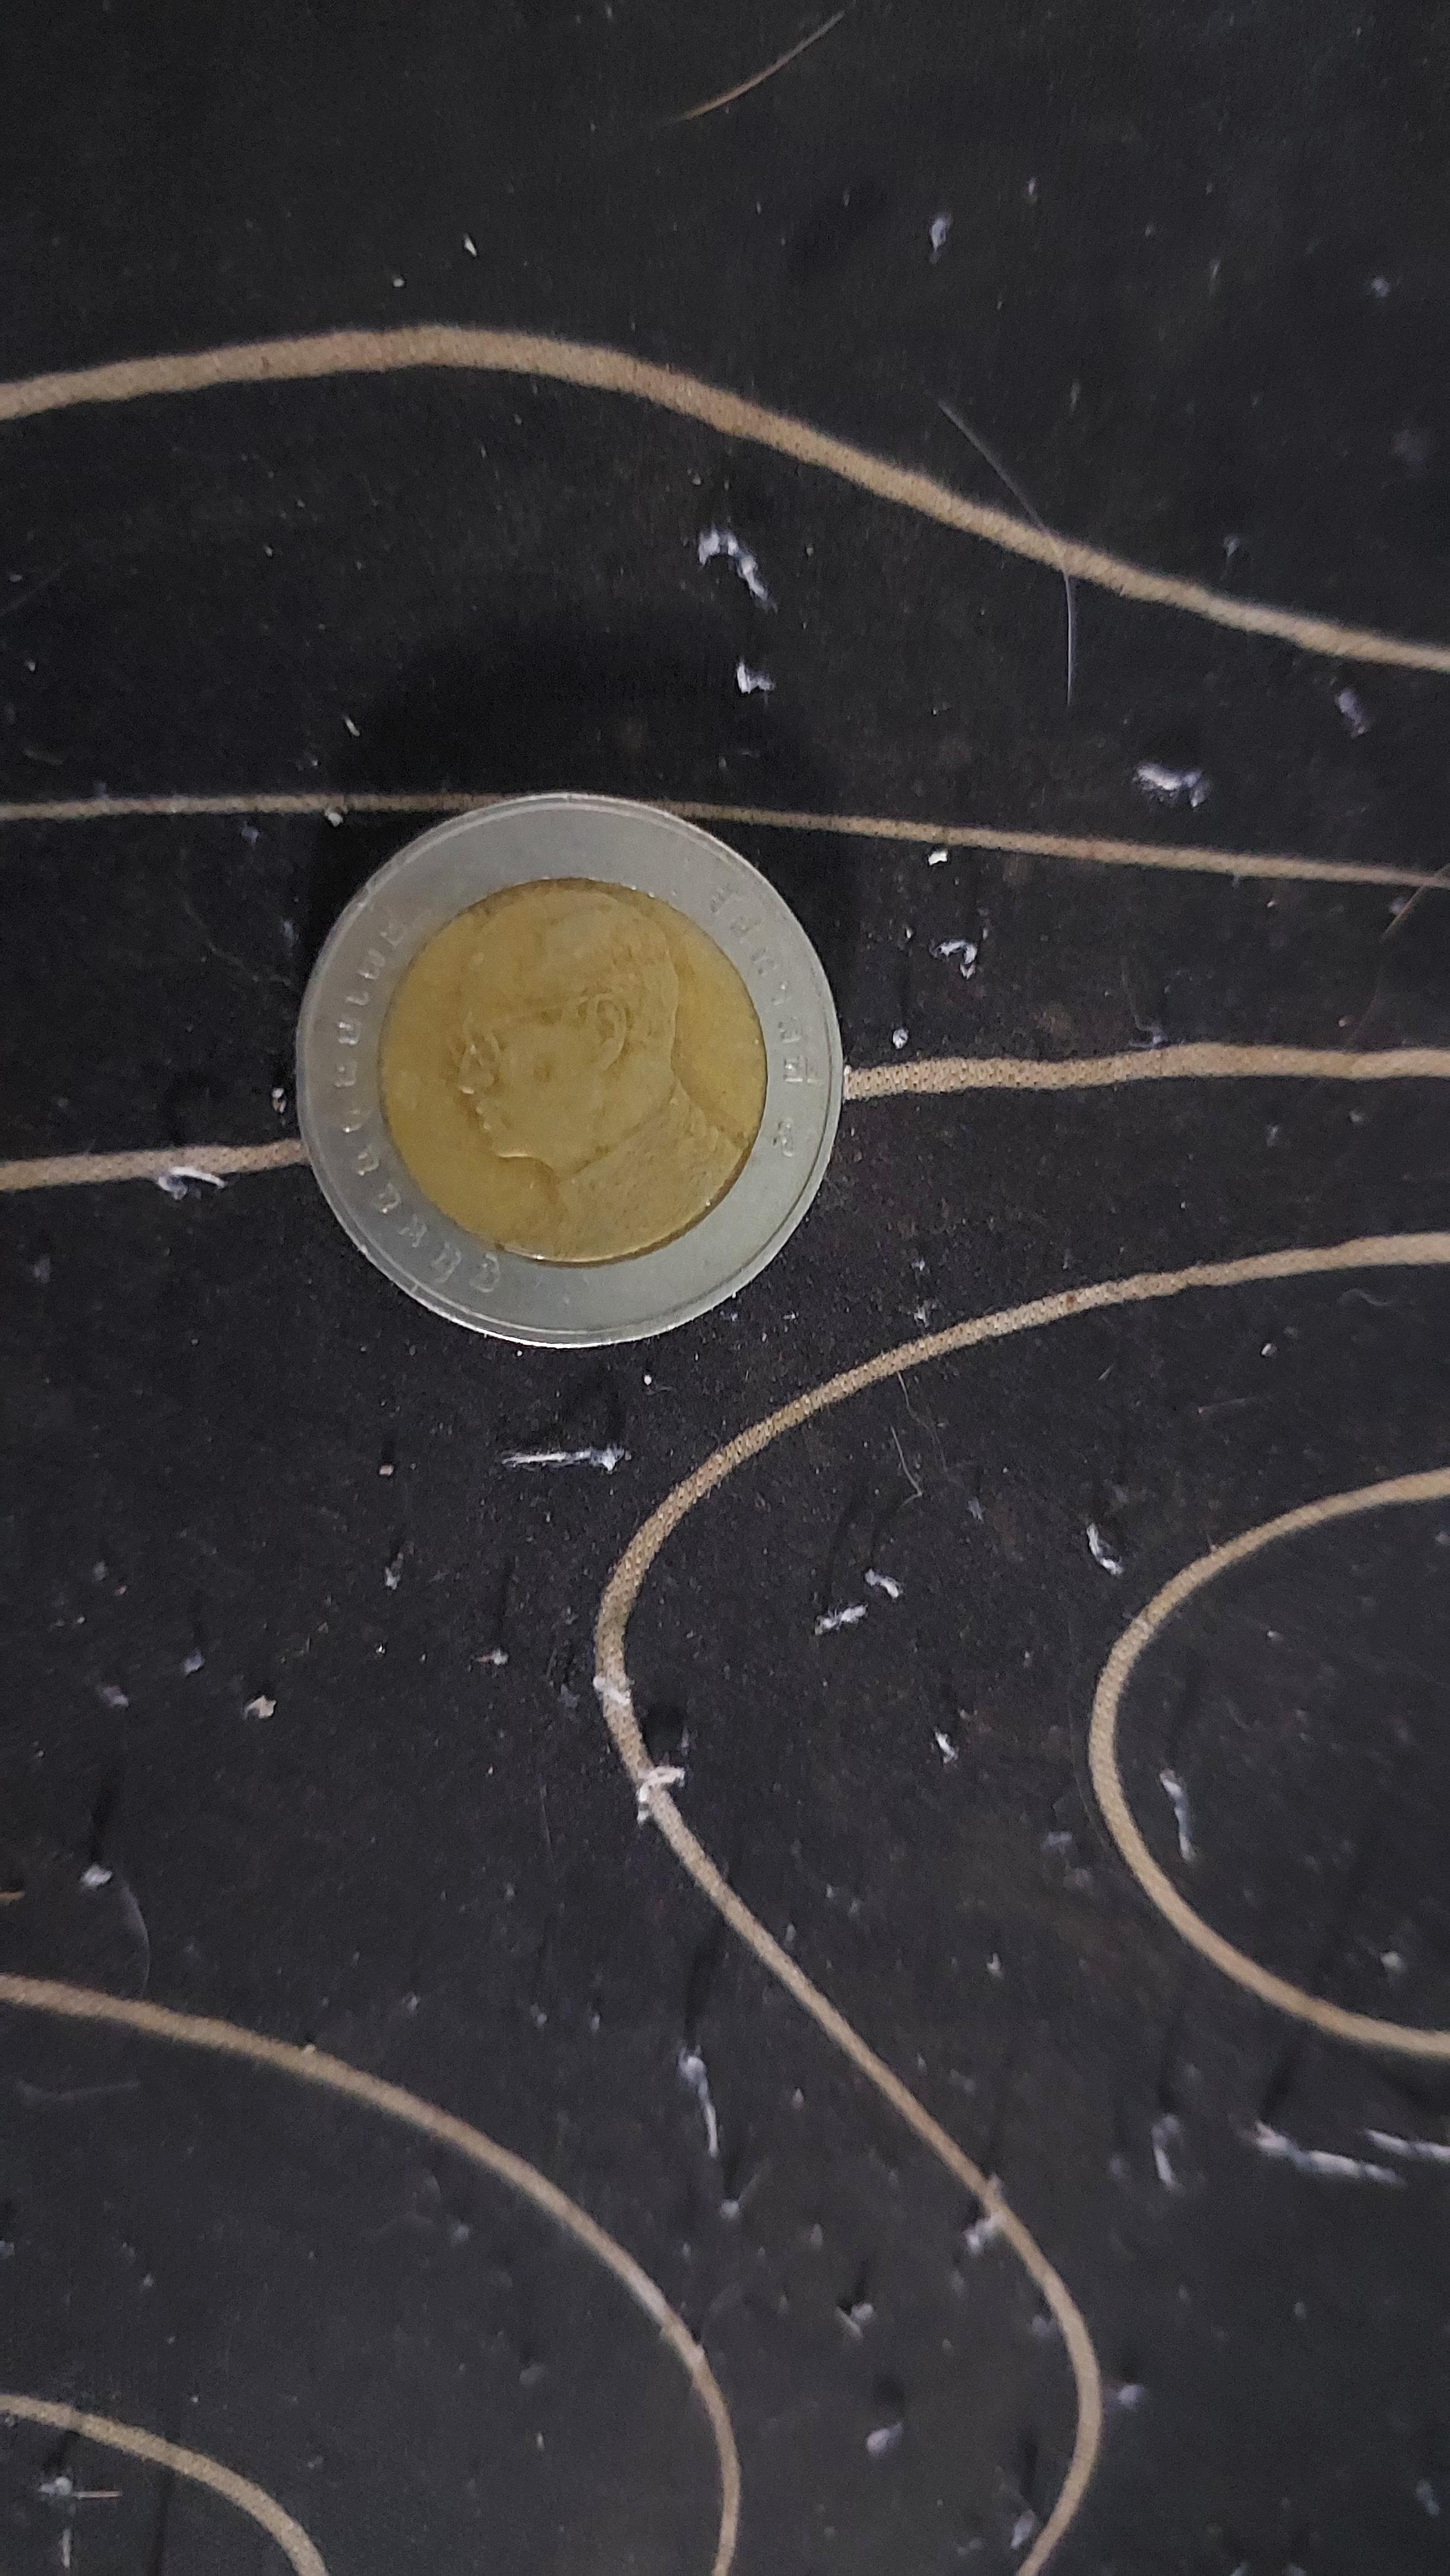10baht: (228, 734, 925, 1391)
